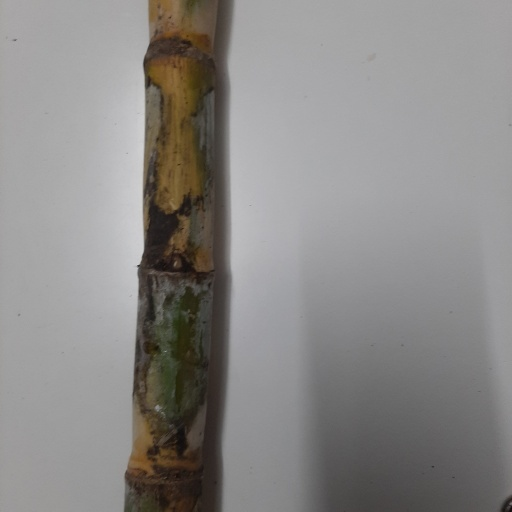Bud: (163, 252, 188, 272)
